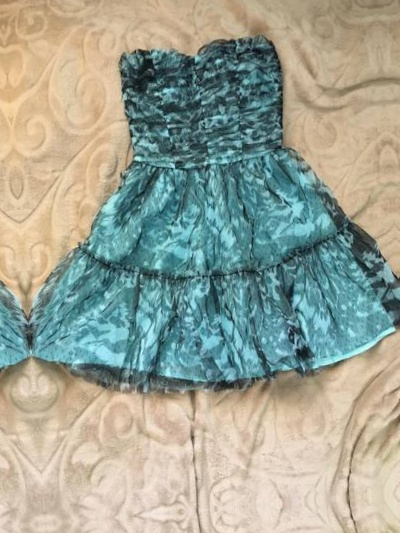Dress: (6, 17, 400, 404), (0, 49, 34, 436), (381, 0, 400, 372)
